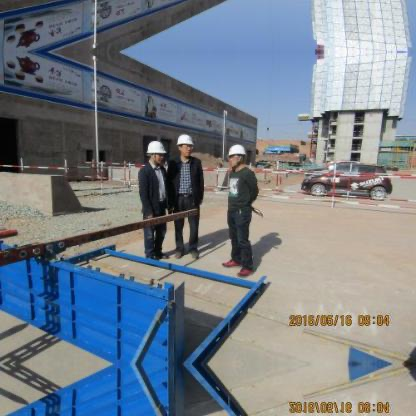Safety Helmet: (223, 141, 252, 182), (140, 138, 173, 174), (170, 129, 202, 161)
